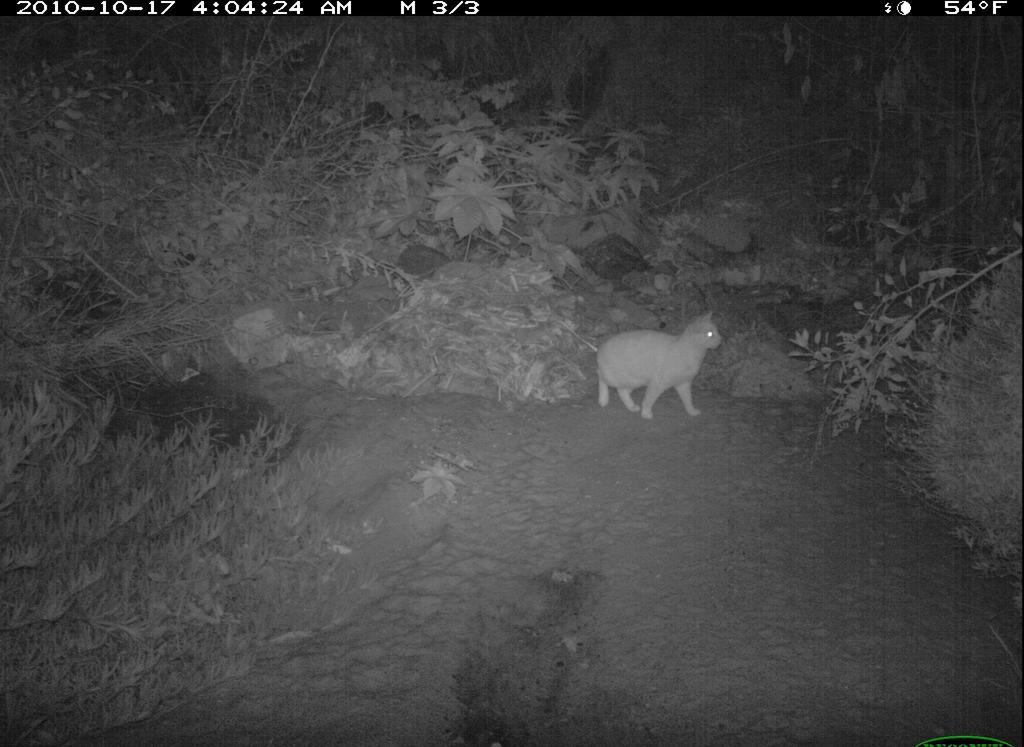cat: (592, 304, 733, 431)
